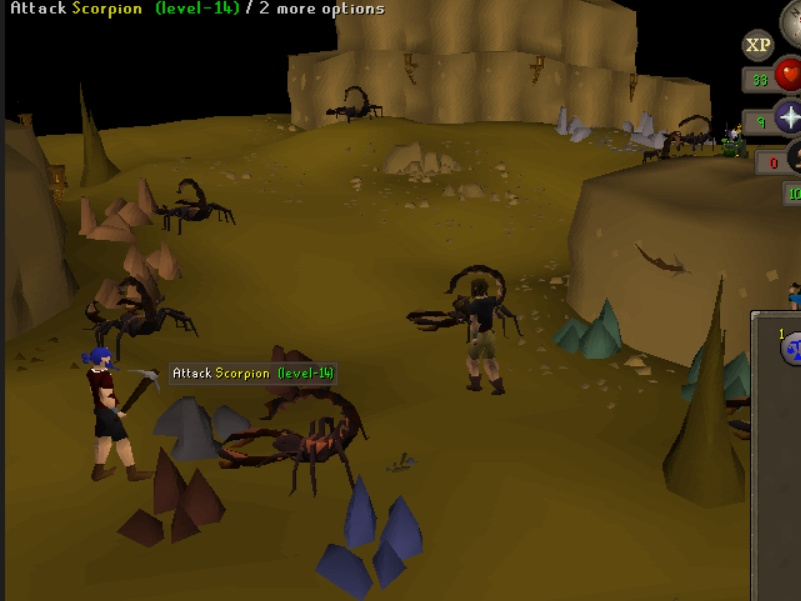adamant: (555, 293, 626, 366), (682, 331, 753, 404)
copper: (71, 198, 133, 241), (124, 239, 186, 282), (113, 177, 175, 220), (86, 273, 148, 316)
iron: (111, 441, 228, 559), (266, 342, 341, 401)
mithril: (303, 472, 431, 597)
tin: (619, 108, 668, 152), (553, 102, 594, 145)
